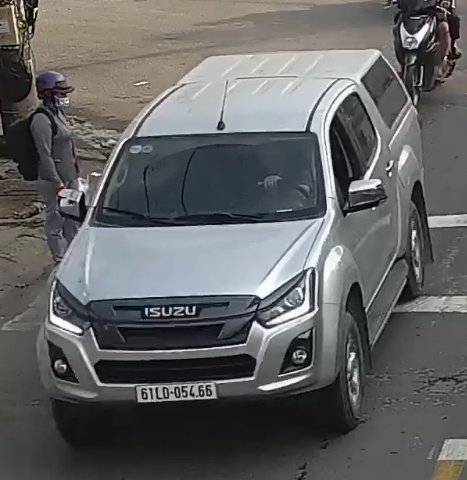vehicle plate: (132, 377, 220, 404)
